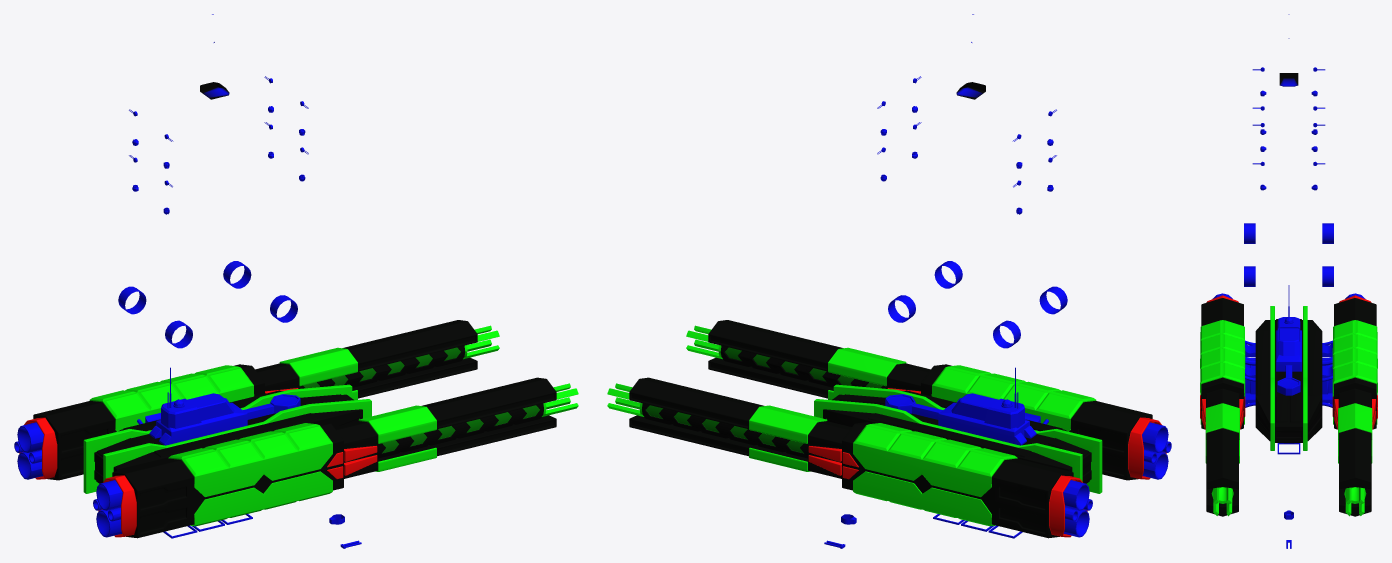
File: SM_DallasTwinClassFrigate_Exploded.fbx
3 views of the same model, side by side, from view 1: azimuth 30°, elevation 25°; view 2: azimuth 150°, elevation 25°; view 3: azimuth 270°, elevation 25° (orthographic). The views are drawn at different scales.
Visible parts, largest first — view 1: Side Engines, Side Engines Armor big, Cannons - tube, Main Hull Fins, Side Engines Armor small, Main Hull, Engines, MAin Bridge - Bottom, Hull BIG Tubes, Main Bridge - Top, Cannons - tip; view 2: Side Engines, Side Engines Armor big, Cannons - tube, Main Hull Fins, Side Engines Armor small, Main Hull, Engines, MAin Bridge - Bottom, Hull BIG Tubes, Main Bridge - Top, Cannons - tip; view 3: Side Engines, Side Engines Armor big, Main Hull, Side Engines Armor small, Main Hull Fins, Hull Tubes and Pipes, Hull BIG Tubes, MAin Bridge - Bottom, Cannons - tip, Main Bridge - Top, Hull Square Connecion, AA Turrets (+2 smaller).
Part boxes in pixels (x1=…): Side Engines: x1=19, y1=320, x2=556, y2=538; Side Engines Armor big: x1=89, y1=365, x2=332, y2=526; Cannons - tube: x1=299, y1=345, x2=543, y2=458; Main Hull Fins: x1=83, y1=384, x2=371, y2=493; Side Engines Armor small: x1=279, y1=347, x2=436, y2=471; Main Hull: x1=94, y1=390, x2=362, y2=483; Engines: x1=14, y1=422, x2=122, y2=537; MAin Bridge - Bottom: x1=149, y1=394, x2=300, y2=445; Hull BIG Tubes: x1=118, y1=261, x2=297, y2=348; Main Bridge - Top: x1=161, y1=393, x2=234, y2=428; Cannons - tip: x1=463, y1=325, x2=578, y2=416; Side Engines: x1=629, y1=320, x2=1166, y2=538; Side Engines Armor big: x1=853, y1=365, x2=1096, y2=526; Cannons - tube: x1=642, y1=345, x2=886, y2=458; Main Hull Fins: x1=814, y1=384, x2=1102, y2=493; Side Engines Armor small: x1=749, y1=347, x2=906, y2=471; Main Hull: x1=823, y1=390, x2=1091, y2=483; Engines: x1=1063, y1=422, x2=1171, y2=537; MAin Bridge - Bottom: x1=885, y1=394, x2=1036, y2=445; Hull BIG Tubes: x1=888, y1=261, x2=1067, y2=348; Main Bridge - Top: x1=951, y1=393, x2=1024, y2=428; Cannons - tip: x1=607, y1=325, x2=722, y2=416; Side Engines: x1=1200, y1=295, x2=1377, y2=516; Side Engines Armor big: x1=1200, y1=320, x2=1377, y2=424; Main Hull: x1=1255, y1=319, x2=1322, y2=442; Side Engines Armor small: x1=1205, y1=403, x2=1372, y2=463; Main Hull Fins: x1=1270, y1=306, x2=1307, y2=450; Hull Tubes and Pipes: x1=1245, y1=340, x2=1332, y2=407; Hull BIG Tubes: x1=1244, y1=223, x2=1333, y2=286; MAin Bridge - Bottom: x1=1276, y1=330, x2=1301, y2=395; Cannons - tip: x1=1211, y1=487, x2=1366, y2=516; Main Bridge - Top: x1=1277, y1=317, x2=1300, y2=355; Hull Square Connecion: x1=1245, y1=357, x2=1332, y2=394; AA Turrets: x1=1260, y1=90, x2=1317, y2=190.
Bounding box in the file's own units: 26015 × 10150 × 29883.
